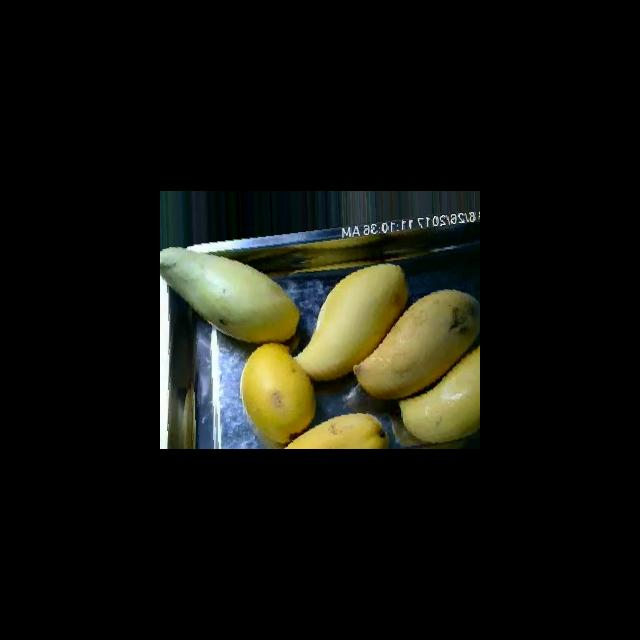mango: (352, 288, 479, 400), (293, 262, 408, 381), (160, 245, 299, 343), (398, 341, 479, 443), (239, 342, 316, 447), (277, 412, 388, 448)
